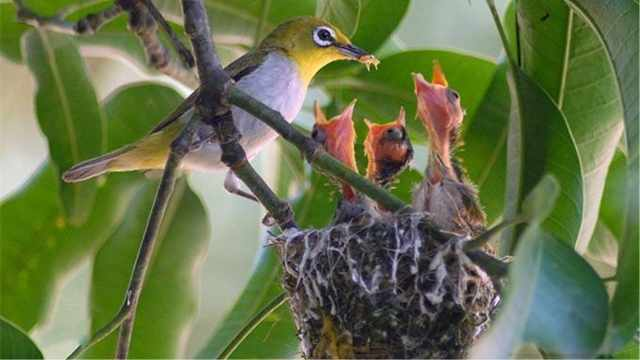bird-nest: (277, 205, 501, 360)
